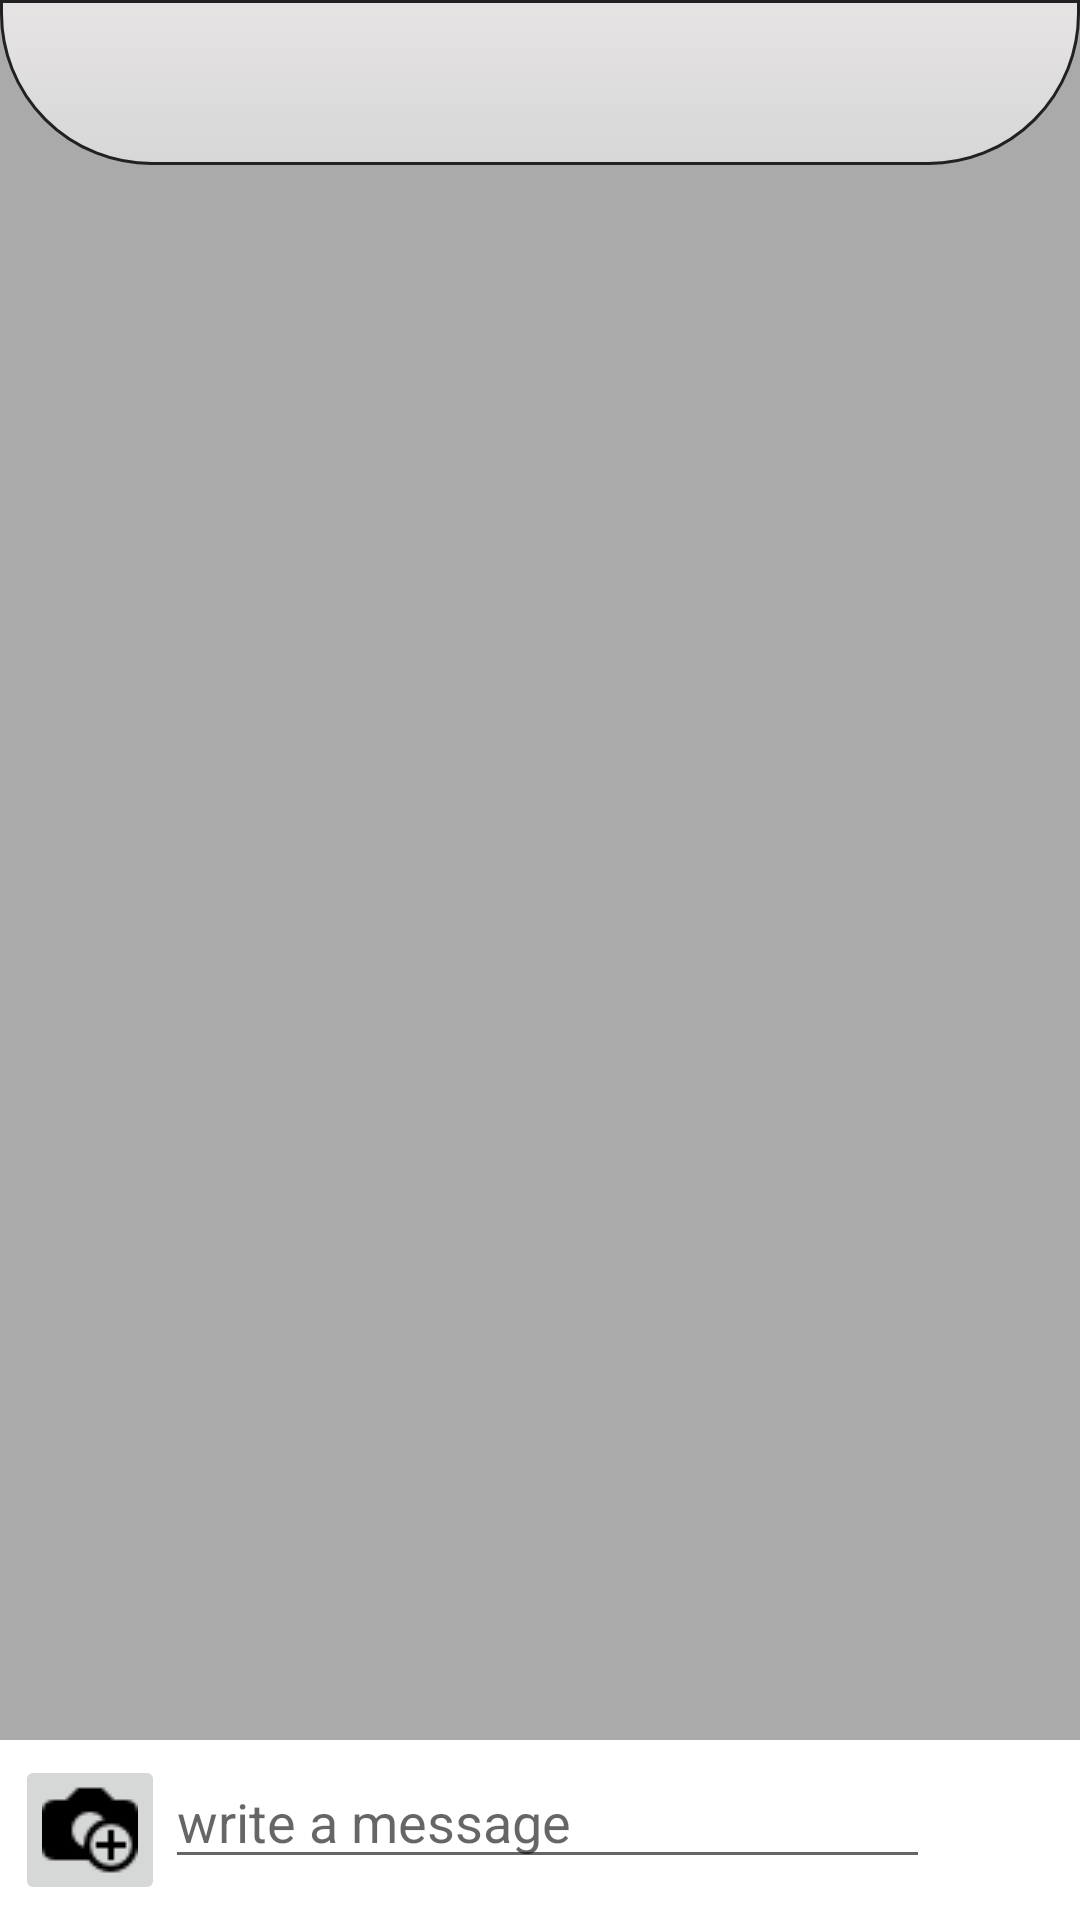

Icons on this 1080×1920 Android screen, each with its box as {"x1": x1, "y1": y1, "x2": x2, "y2": y2}:
add: {"x1": 27, "y1": 1773, "x2": 153, "y2": 1887}
